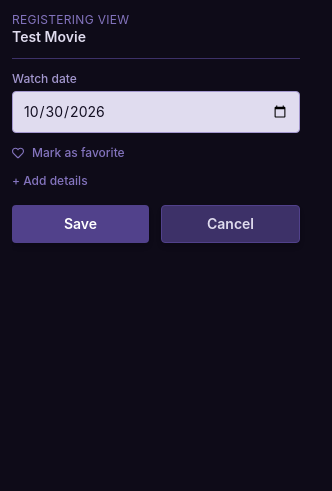
it: ViewDetailsForm tier › shows the S, A, B, C, D tier options inside the details
Click the button "+ Add details" at (50, 180), box [12,172,300,188]
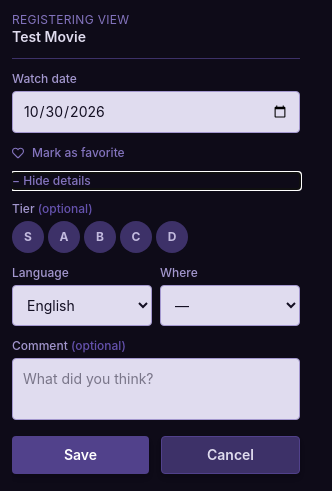
Expected: the button "S" is shown, [12,220,44,252]
Expected: the button "A" is shown, [48,220,80,252]
Expected: the button "B" is shown, [84,220,116,252]
